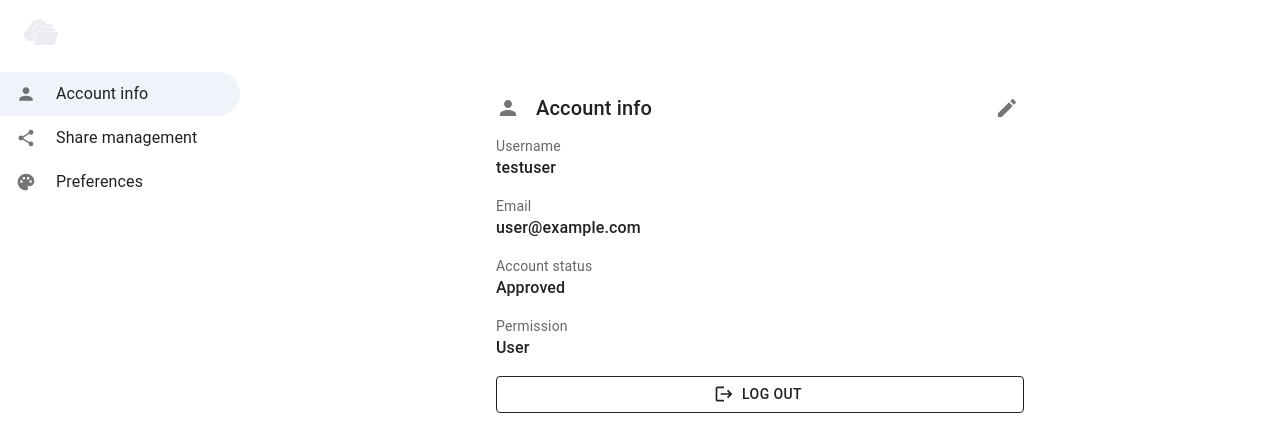
MyPage › inbox: shows pending request with Review and Rejected buttons
Click the button "Share management" at [107, 138], box [16,128,198,148]
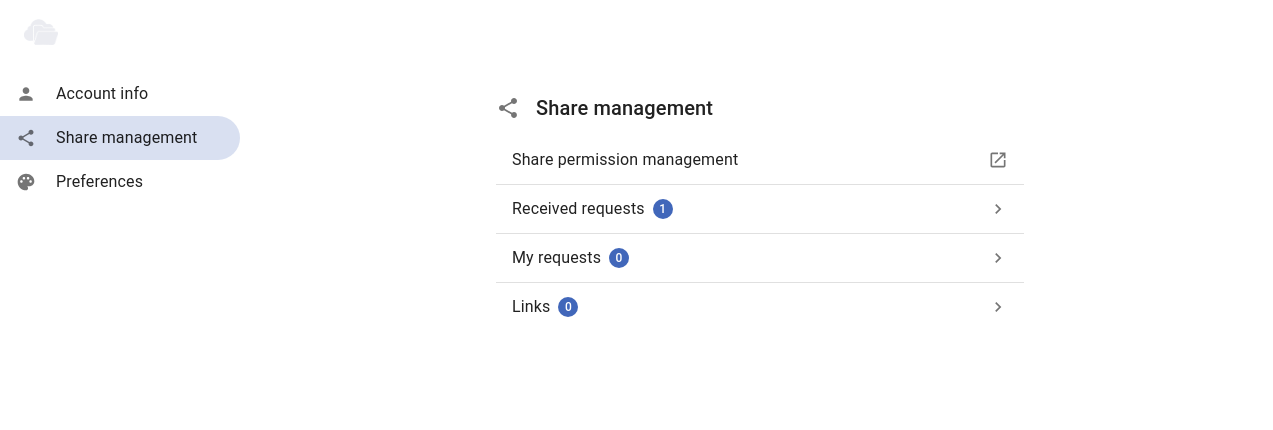
Now the button "Received requests 1" is shown
Click the button "Received requests 1" at [578, 208], box [512,199,1008,219]
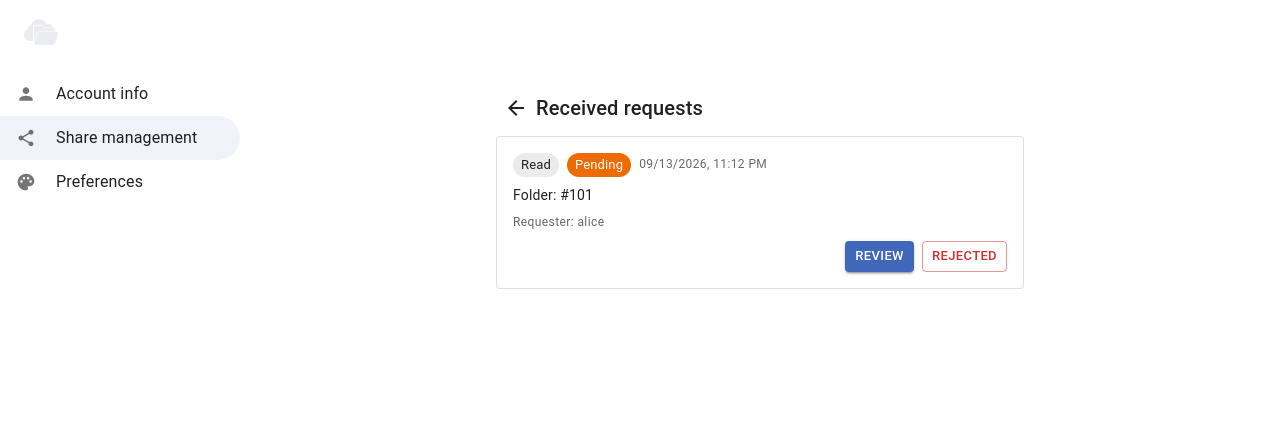
Now the button "Review" is shown, box [845,241,914,272]
Now the button "Rejected" is shown, box [922,241,1007,272]
